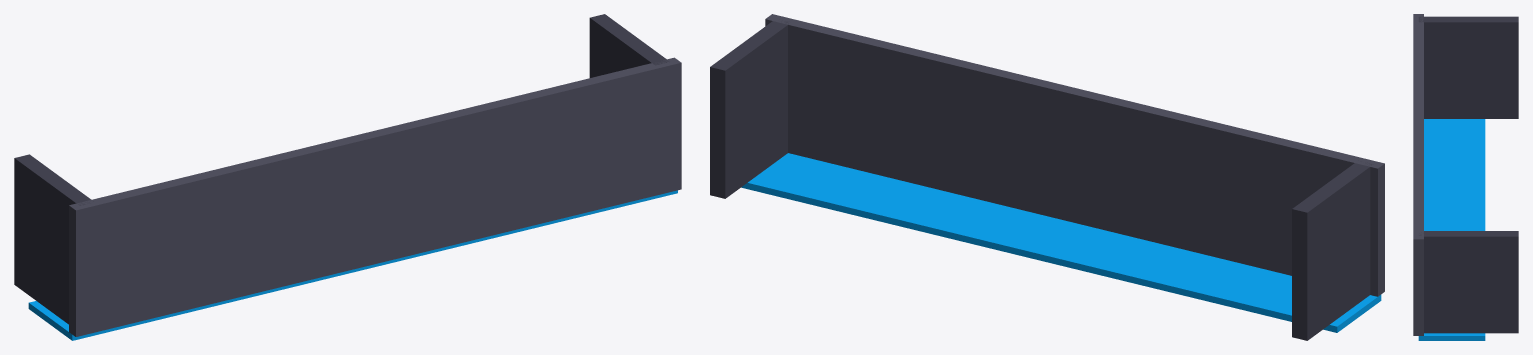
File: dj_booth.glb
The picture shows the model from 3 angles, left to right: view 1: azimuth 30°, elevation 25°; view 2: azimuth 150°, elevation 25°; view 3: azimuth 270°, elevation 25°; orthographic projection. The views are drawn at different scales.
Parts seen in each view (by area): view 1: world; view 2: world; view 3: world.
Boxes of the visible parts, <box> form: world: <box>14,14,681,340</box>; world: <box>710,14,1384,340</box>; world: <box>1413,14,1518,340</box>.
Bounding box in the file's own units: 4 × 0.84 × 0.79.
